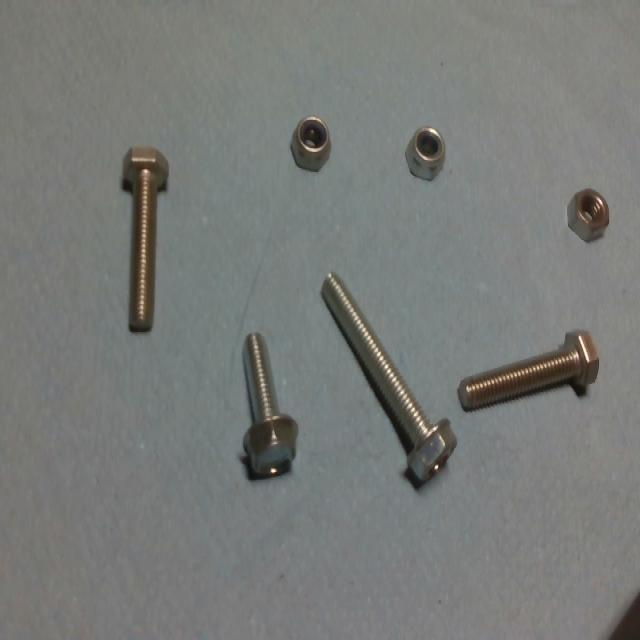Bolt: (317, 260, 464, 486), (456, 322, 601, 424), (118, 143, 174, 344), (238, 320, 302, 480)
Nut: (564, 185, 616, 247), (403, 123, 457, 182), (286, 114, 333, 172)
